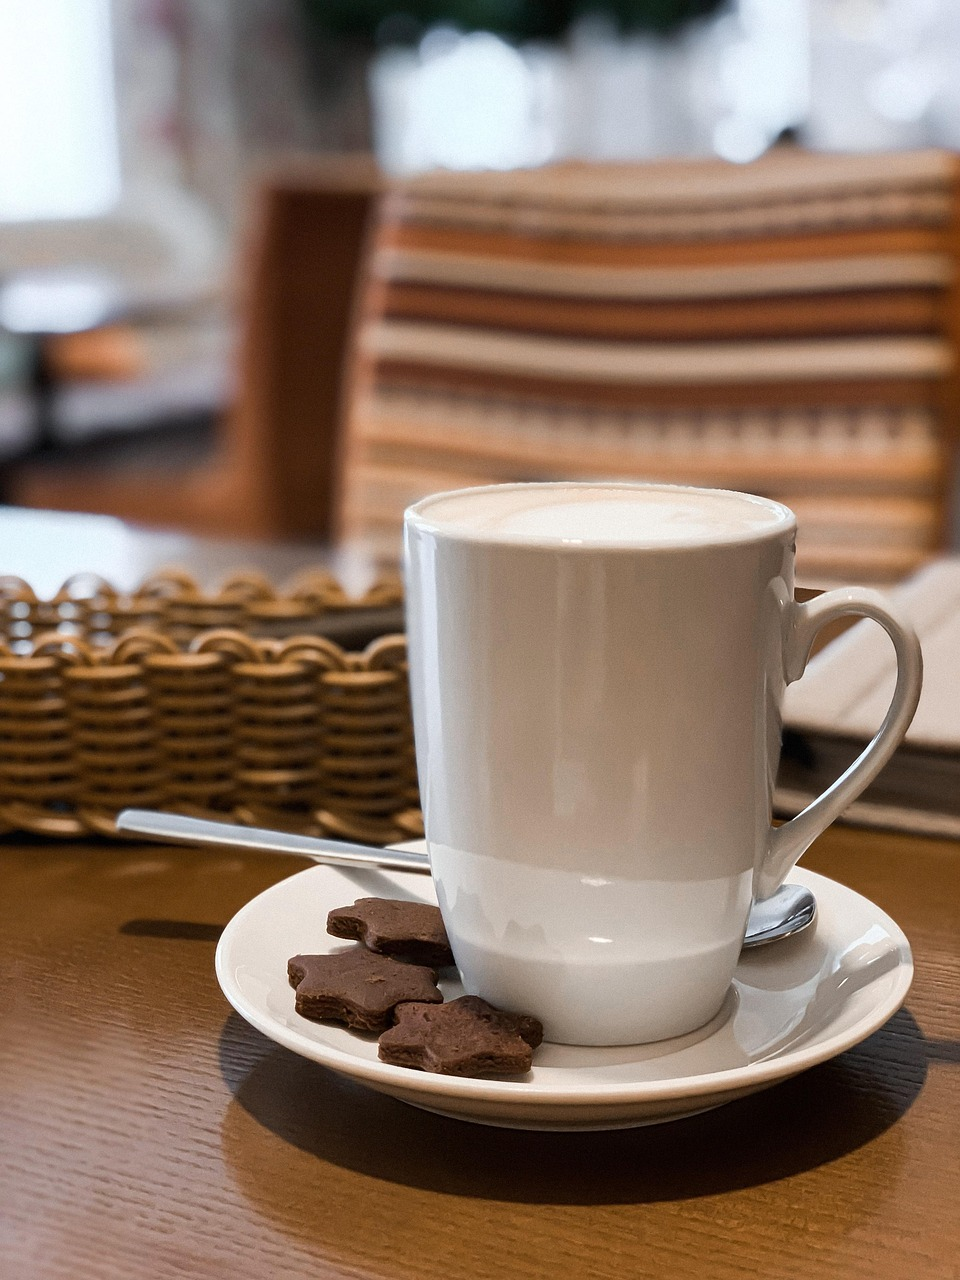mug: (385, 425, 897, 1111)
